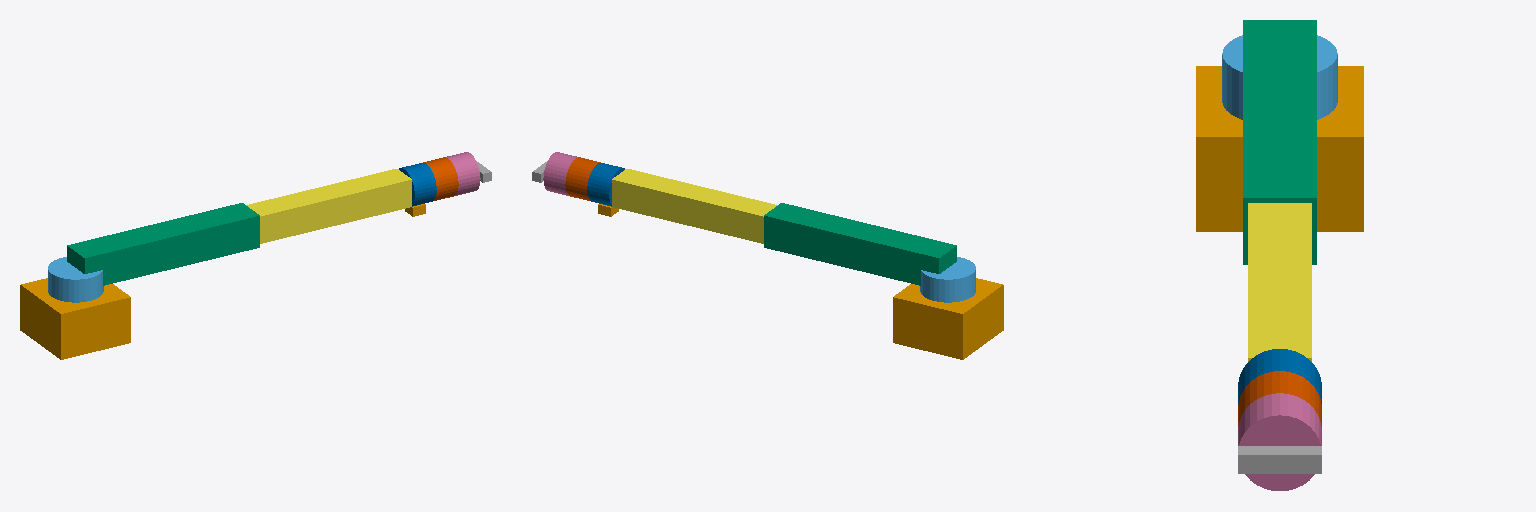
robot.urdf — wr6_standard:
<?xml version="1.0" encoding="utf-8"?>
<robot name="wr6_standard">

  <!-- Base Link -->
  <link name="base_link">
    <visual>
      <geometry><box size="0.16 0.16 0.10"/></geometry>
      <origin xyz="0 0 0.05" rpy="0 0 0"/>
    </visual>
    <collision>
      <geometry><box size="0.16 0.16 0.10"/></geometry>
      <origin xyz="0 0 0.05" rpy="0 0 0"/>
    </collision>
    <inertial>
      <mass value="4.0"/>
      <origin xyz="0 0 0.05" rpy="0 0 0"/>
      <inertia ixx="0.01" ixy="0" ixz="0" iyy="0.01" iyz="0" izz="0.01"/>
    </inertial>
  </link>

  <!-- Shoulder Pan Link -->
  <link name="shoulder_pan_link">
    <visual>
      <geometry><cylinder radius="0.055" length="0.05"/></geometry>
      <origin xyz="0 0 0.025" rpy="0 0 0"/>
    </visual>
    <collision>
      <geometry><cylinder radius="0.055" length="0.05"/></geometry>
      <origin xyz="0 0 0.025" rpy="0 0 0"/>
    </collision>
    <inertial>
      <mass value="1.5"/>
      <origin xyz="0 0 0.025" rpy="0 0 0"/>
      <inertia ixx="0.002" ixy="0" ixz="0" iyy="0.002" iyz="0" izz="0.002"/>
    </inertial>
  </link>

  <joint name="shoulder_pan" type="revolute">
    <parent link="base_link"/>
    <child link="shoulder_pan_link"/>
    <origin xyz="0 0 0.1" rpy="0 0 0"/>
    <axis xyz="0 0 1"/>
    <limit lower="-3.14159265" upper="3.14159265" effort="100.0" velocity="1.5"/>
  </joint>

  <!-- Shoulder Lift Link -->
  <link name="shoulder_lift_link">
    <visual>
      <geometry><box size="0.07 0.07 0.4"/></geometry>
      <origin xyz="0 0 0.2" rpy="0 0 0"/>
    </visual>
    <collision>
      <geometry><box size="0.07 0.07 0.4"/></geometry>
      <origin xyz="0 0 0.2" rpy="0 0 0"/>
    </collision>
    <inertial>
      <mass value="3.0"/>
      <origin xyz="0 0 0.2" rpy="0 0 0"/>
      <inertia ixx="0.05" ixy="0" ixz="0" iyy="0.05" iyz="0" izz="0.005"/>
    </inertial>
  </link>

  <joint name="shoulder_lift" type="revolute">
    <parent link="shoulder_pan_link"/>
    <child link="shoulder_lift_link"/>
    <origin xyz="0 0 0.05" rpy="0 1.5707963268 0"/>
    <axis xyz="0 1 0"/>
    <limit lower="-3.14159265" upper="3.14159265" effort="150.0" velocity="1.0"/>
  </joint>

  <!-- Elbow Link -->
  <link name="elbow_link">
    <visual>
      <geometry><box size="0.06 0.06 0.35"/></geometry>
      <origin xyz="0 0 0.175" rpy="0 0 0"/>
    </visual>
    <collision>
      <geometry><box size="0.06 0.06 0.35"/></geometry>
      <origin xyz="0 0 0.175" rpy="0 0 0"/>
    </collision>
    <inertial>
      <mass value="2.0"/>
      <origin xyz="0 0 0.175" rpy="0 0 0"/>
      <inertia ixx="0.03" ixy="0" ixz="0" iyy="0.03" iyz="0" izz="0.003"/>
    </inertial>
  </link>

  <joint name="elbow" type="revolute">
    <parent link="shoulder_lift_link"/>
    <child link="elbow_link"/>
    <origin xyz="0 0 0.4" rpy="0 0 0"/>
    <axis xyz="0 1 0"/>
    <limit lower="-3.14159265" upper="0" effort="100.0" velocity="1.5"/>
  </joint>

  <!-- Wrist 1 Link -->
  <link name="wrist_1_link">
    <visual>
      <geometry><cylinder radius="0.04" length="0.05"/></geometry>
      <origin xyz="0 0 0.025" rpy="0 0 0"/>
    </visual>
    <collision>
      <geometry><cylinder radius="0.04" length="0.05"/></geometry>
      <origin xyz="0 0 0.025" rpy="0 0 0"/>
    </collision>
    <inertial>
      <mass value="0.8"/>
      <origin xyz="0 0 0.025" rpy="0 0 0"/>
      <inertia ixx="0.001" ixy="0" ixz="0" iyy="0.001" iyz="0" izz="0.001"/>
    </inertial>
  </link>

  <joint name="wrist_1" type="revolute">
    <parent link="elbow_link"/>
    <child link="wrist_1_link"/>
    <origin xyz="0 0 0.35" rpy="0 0 0"/>
    <axis xyz="0 1 0"/>
    <limit lower="-1.5707963268" upper="1.5707963268" effort="50.0" velocity="2.0"/>
  </joint>

  <!-- Wrist 2 Link -->
  <link name="wrist_2_link">
    <visual>
      <geometry><cylinder radius="0.04" length="0.05"/></geometry>
      <origin xyz="0 0 0.025" rpy="0 0 0"/>
    </visual>
    <collision>
      <geometry><cylinder radius="0.04" length="0.05"/></geometry>
      <origin xyz="0 0 0.025" rpy="0 0 0"/>
    </collision>
    <inertial>
      <mass value="0.8"/>
      <origin xyz="0 0 0.025" rpy="0 0 0"/>
      <inertia ixx="0.001" ixy="0" ixz="0" iyy="0.001" iyz="0" izz="0.001"/>
    </inertial>
  </link>

  <joint name="wrist_2" type="revolute">
    <parent link="wrist_1_link"/>
    <child link="wrist_2_link"/>
    <origin xyz="0 0 0.05" rpy="0 0 0"/>
    <axis xyz="0 0 1"/>
    <limit lower="-3.14159265" upper="3.14159265" effort="50.0" velocity="2.0"/>
  </joint>

  <!-- Wrist 3 Link -->
  <link name="wrist_3_link">
    <visual>
      <geometry><cylinder radius="0.04" length="0.05"/></geometry>
      <origin xyz="0 0 0.025" rpy="0 0 0"/>
    </visual>
    <collision>
      <geometry><cylinder radius="0.04" length="0.05"/></geometry>
      <origin xyz="0 0 0.025" rpy="0 0 0"/>
    </collision>
    <inertial>
      <mass value="0.6"/>
      <origin xyz="0 0 0.025" rpy="0 0 0"/>
      <inertia ixx="0.0005" ixy="0" ixz="0" iyy="0.0005" iyz="0" izz="0.0005"/>
    </inertial>
  </link>

  <joint name="wrist_3" type="revolute">
    <parent link="wrist_2_link"/>
    <child link="wrist_3_link"/>
    <origin xyz="0 0 0.05" rpy="0 0 0"/>
    <axis xyz="0 1 0"/>
    <limit lower="-1.5707963268" upper="1.5707963268" effort="50.0" velocity="2.0"/>
  </joint>

  <!-- Tool0 (end-effector frame) -->
  <link name="tool0">
    <visual>
      <geometry><box size="0.02 0.08 0.02"/></geometry>
    </visual>
    <collision>
      <geometry><box size="0.02 0.08 0.02"/></geometry>
    </collision>
    <inertial>
      <mass value="0.1"/>
      <inertia ixx="0.0001" ixy="0" ixz="0" iyy="0.0001" iyz="0" izz="0.0001"/>
    </inertial>
  </link>

  <joint name="tool_joint" type="fixed">
    <parent link="wrist_3_link"/>
    <child link="tool0"/>
    <origin xyz="0 0 0.065" rpy="0 0 0"/>
  </joint>

  <!-- Camera Link -->
  <link name="camera_link">
    <visual>
      <geometry><box size="0.03 0.03 0.02"/></geometry>
    </visual>
    <collision>
      <geometry><box size="0.03 0.03 0.02"/></geometry>
    </collision>
    <inertial>
      <mass value="0.05"/>
      <inertia ixx="0.00001" ixy="0" ixz="0" iyy="0.00001" iyz="0" izz="0.00001"/>
    </inertial>
  </link>

  <joint name="camera_joint" type="fixed">
    <parent link="wrist_1_link"/>
    <child link="camera_link"/>
    <origin xyz="0.05 0 0.025" rpy="0 -1.5707963268 0"/>
  </joint>

</robot>

--- Render facts (derived) ---
The picture shows the robot from 3 angles, left to right: view 1: azimuth 30°, elevation 25°; view 2: azimuth 150°, elevation 25°; view 3: azimuth 270°, elevation 25°; orthographic projection.
Model wr6_standard with 9 links and 8 joints (6 revolute, 2 fixed), rooted at base_link, posed all joints at 0.
Visible links, largest first — view 1: shoulder_lift_link, elbow_link, base_link, shoulder_pan_link, wrist_1_link, wrist_3_link, wrist_2_link; view 2: shoulder_lift_link, elbow_link, base_link, shoulder_pan_link, wrist_1_link, wrist_3_link, wrist_2_link; view 3: shoulder_lift_link, base_link, elbow_link, wrist_3_link, shoulder_pan_link, tool0, wrist_2_link, wrist_1_link.
Boxes of the visible links, x1,y1,x2,y2 form: shoulder_lift_link: (67,203,259,285); elbow_link: (246,169,411,243); base_link: (20,278,130,359); shoulder_pan_link: (48,257,103,302); wrist_1_link: (399,163,436,206); wrist_3_link: (446,152,480,195); wrist_2_link: (423,157,458,200); shoulder_lift_link: (764,203,956,285); elbow_link: (612,169,777,243); base_link: (893,278,1003,359); shoulder_pan_link: (920,257,975,302); wrist_1_link: (587,163,624,206); wrist_3_link: (543,152,577,195); wrist_2_link: (565,157,600,200); shoulder_lift_link: (1243,20,1316,264); base_link: (1196,66,1363,231); elbow_link: (1248,203,1311,361); wrist_3_link: (1238,393,1321,490); shoulder_pan_link: (1222,35,1337,119); tool0: (1238,446,1321,473); wrist_2_link: (1238,371,1321,425); wrist_1_link: (1238,349,1321,403).
Size in the robot's own frame: 1 by 0.16 by 0.19 metres.
Geometry: primitives only (box / cylinder / sphere), no mesh files.
